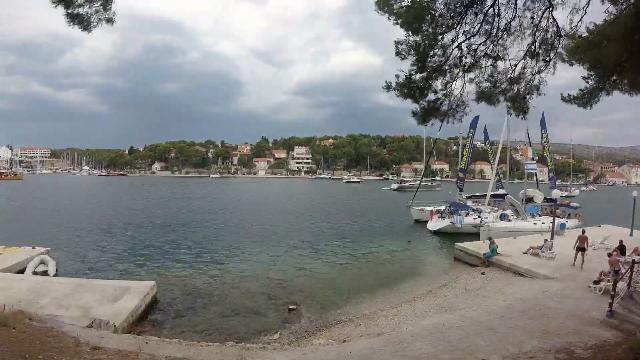Sailboat: (386, 172, 446, 194)
speedboat: (340, 170, 364, 188)
